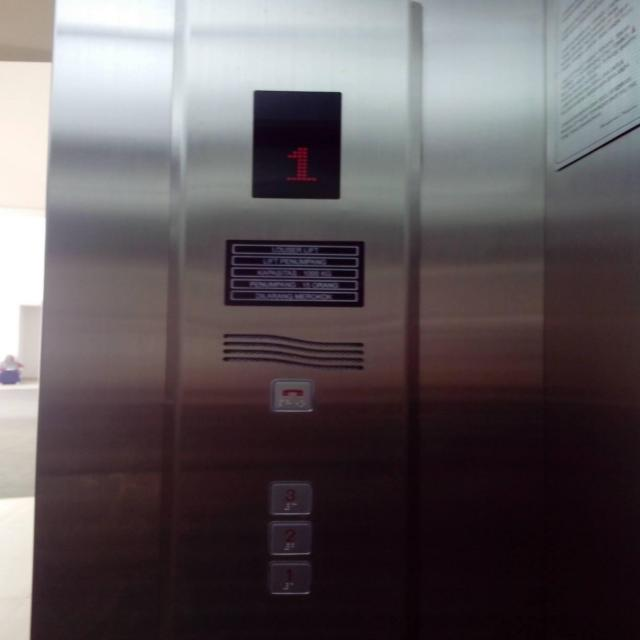1: (265, 558, 311, 594)
2: (265, 520, 312, 555)
3: (267, 481, 311, 516)
call: (268, 378, 316, 413)
led: (252, 90, 340, 200)
